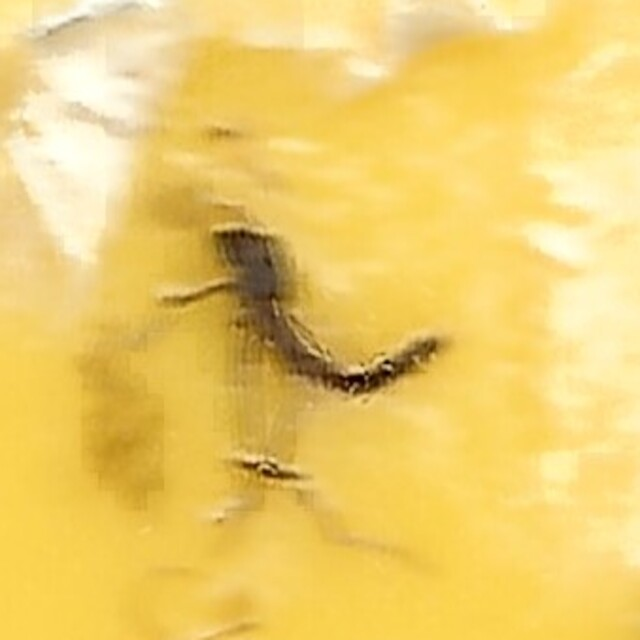Nematocera: (189, 226, 451, 414)
